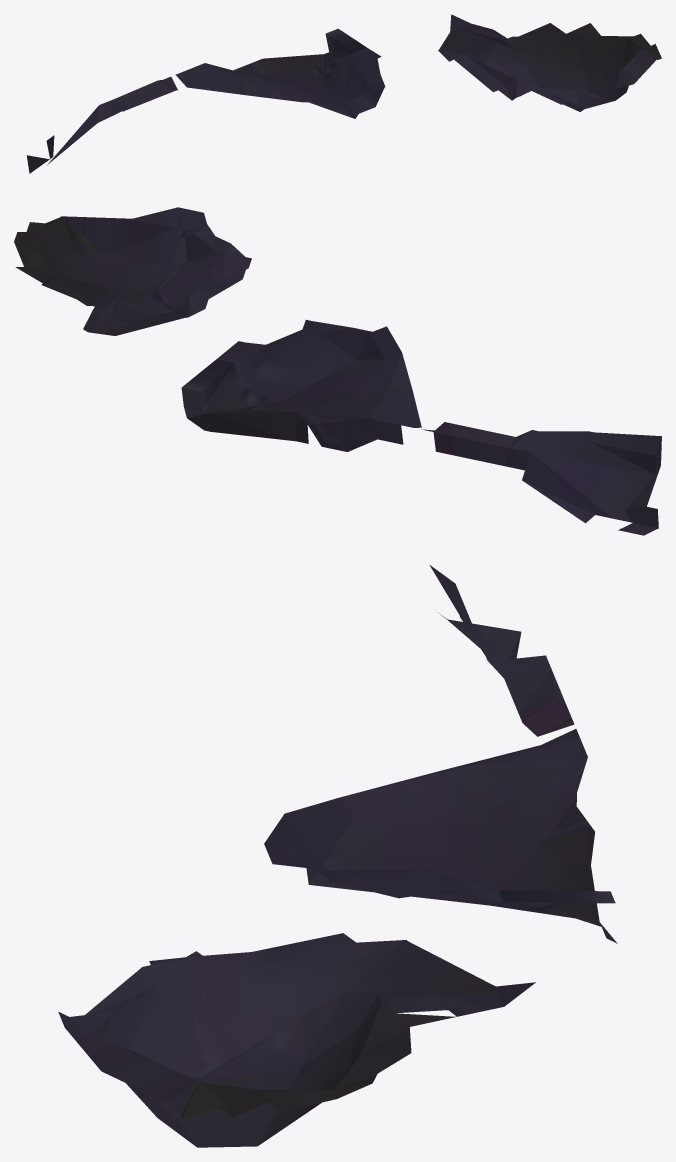
3 renders of one model, top to bottom at view 1: azimuth 30°, elevation 25°; view 2: azimuth 150°, elevation 25°; view 3: azimuth 270°, elevation 25°, orthographic. The views are drawn at different scales.
Parts seen in each view (by area): view 1: Mesh_0; view 2: Mesh_0; view 3: Mesh_0.
Part boxes in pixels (x1=…): Mesh_0: x1=26, y1=14, x2=661, y2=173; Mesh_0: x1=14, y1=207, x2=661, y2=535; Mesh_0: x1=58, y1=565, x2=617, y2=1147.
Size of the model in its own units: 18.75 by 1.86 by 8.01.
Materials: 1 (1 with a texture image).
